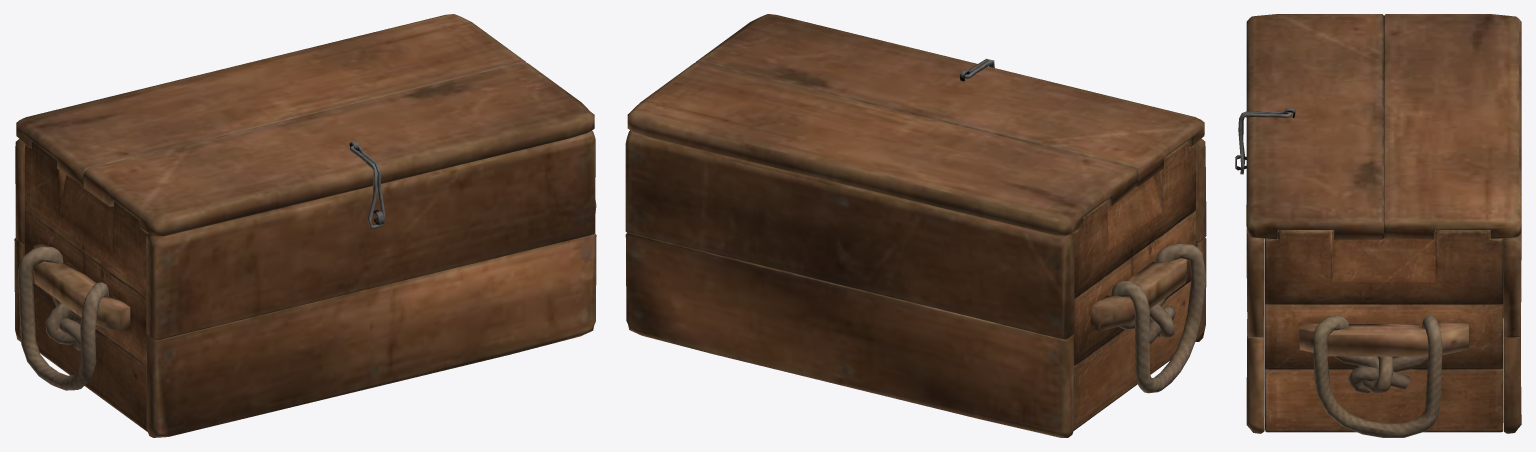
Rendered from caisse_bois_lod0.glb.
3 renders of one model, left to right at view 1: azimuth 30°, elevation 25°; view 2: azimuth 150°, elevation 25°; view 3: azimuth 270°, elevation 25°, orthographic. The views are drawn at different scales.
Visible parts, largest first — view 1: wooden_crate_01_lid; view 2: wooden_crate_01_lid; view 3: wooden_crate_01_lid.
Boxes of the visible parts, left/top/right/bottom form: wooden_crate_01_lid: left=14, top=14, right=596, bottom=437; wooden_crate_01_lid: left=625, top=14, right=1206, bottom=437; wooden_crate_01_lid: left=1235, top=14, right=1521, bottom=437.
Bounding box in the file's own units: 0.8245 × 0.3483 × 0.4072.
Materials: 1 (1 with a texture image).
